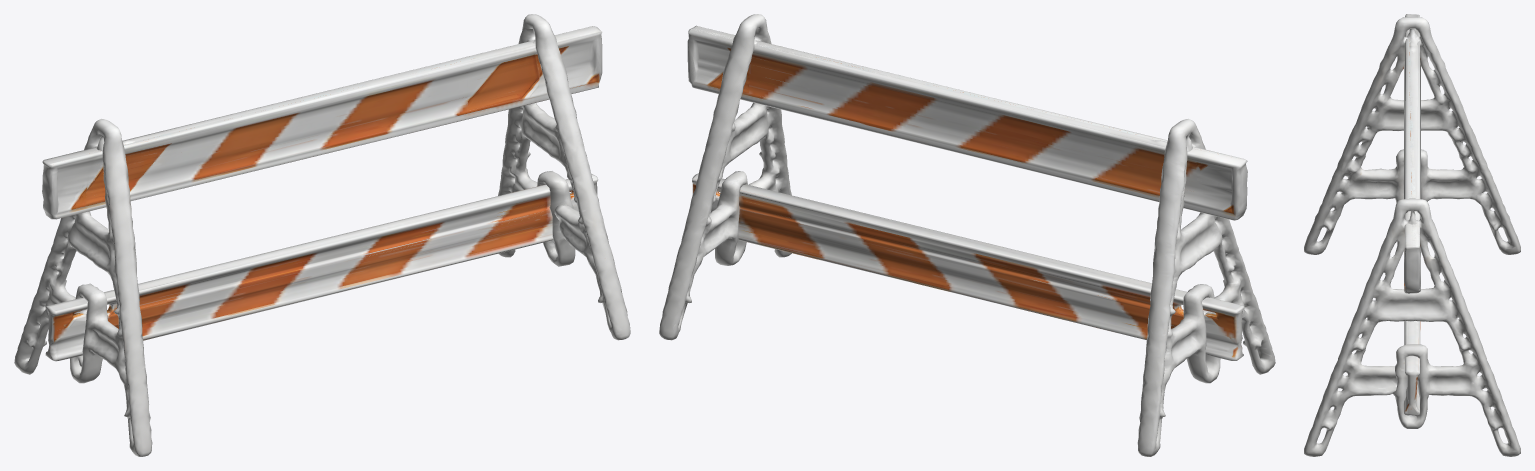
File: a_frame_baracade_0419024745_texture.glb
The picture shows the model from 3 angles, left to right: view 1: azimuth 30°, elevation 25°; view 2: azimuth 150°, elevation 25°; view 3: azimuth 270°, elevation 25°; orthographic projection. The views are drawn at different scales.
Visible parts, largest first — view 1: Mesh_0.001; view 2: Mesh_0.001; view 3: Mesh_0.001.
Boxes of the visible parts, box(x1,y1,x2,y2) form: Mesh_0.001: box(14, 14, 630, 456); Mesh_0.001: box(659, 14, 1275, 456); Mesh_0.001: box(1304, 14, 1520, 456).
Bounding box in the file's own units: 2.08 × 1.02 × 0.8151.
Materials: 1 (1 with a texture image).
